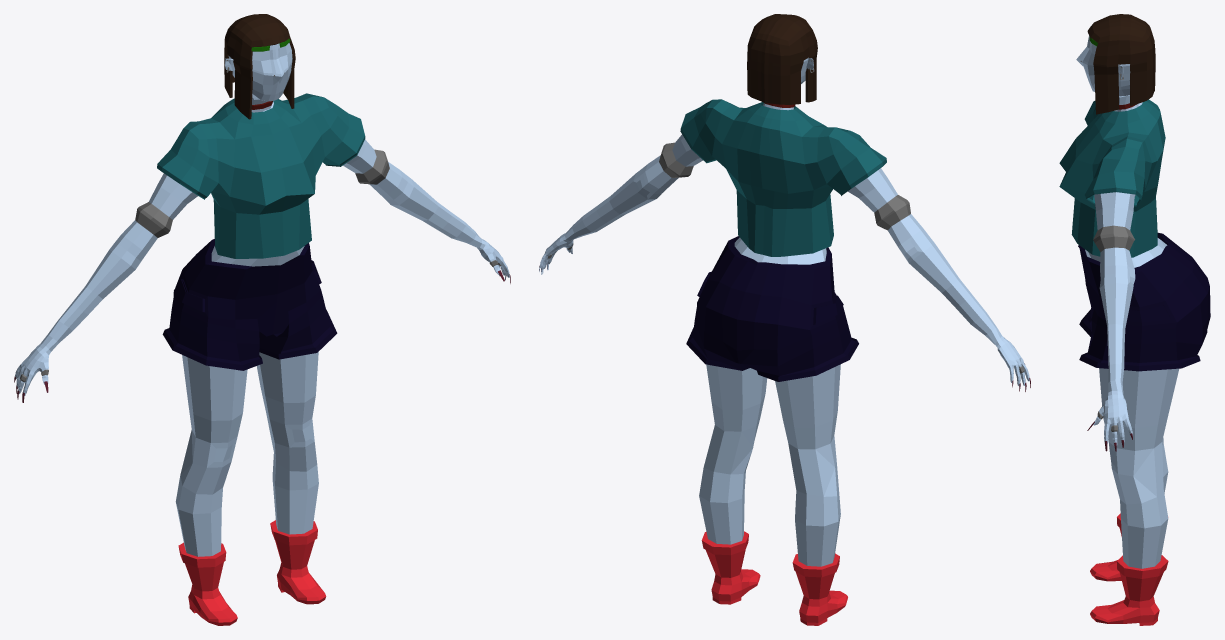
File: Ripley.fbx
The picture shows the model from 3 angles, left to right: view 1: azimuth 30°, elevation 25°; view 2: azimuth 150°, elevation 25°; view 3: azimuth 270°, elevation 25°; orthographic projection.
Visible parts, largest first — view 1: Ripley, Hair1; view 2: Ripley, Hair1; view 3: Ripley, Hair1.
Part boxes in pixels (x1,y1,x2,y2): Ripley: [14, 38, 510, 625]; Hair1: [224, 14, 295, 119]; Ripley: [539, 57, 1030, 625]; Hair1: [747, 14, 817, 104]; Ripley: [1059, 35, 1210, 625]; Hair1: [1087, 14, 1155, 114].
Size of the model in its own units: 198 by 228 by 53.63.
